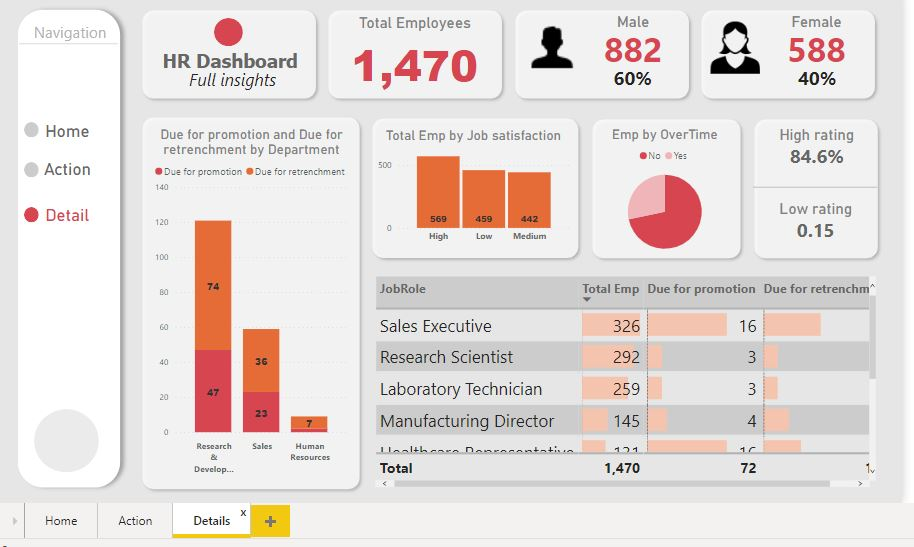

The page's visual inventory and layout, read from the dashboard file:
{"tool":"powerbi","page":{"name":"Details","canvas":[1280,720],"ordinal":2},"visuals":[{"type":"shape","box":[16.5,9.6,166.5,699.2],"z":0},{"type":"shape","box":[195.4,12.4,264.3,143.1],"z":1000},{"type":"shape","box":[459.7,12.4,264.3,143.1],"z":2000},{"type":"shape","box":[724,12.4,264.3,143.1],"z":3000},{"type":"shape","box":[988.2,12.4,264.3,143.1],"z":4000},{"type":"shape","box":[195.2,164.4,325.9,544.6],"z":5000},{"type":"shape","box":[521.1,165.9,309.7,215.8],"z":6000},{"type":"shape","box":[833.6,166.7,228.3,215],"z":7000},{"type":"shape","box":[1063.1,166.7,193.3,215],"z":8000},{"type":"textbox","box":[209.7,71.2,238.7,51.4],"z":9000},{"type":"textbox","box":[36.9,33,130.5,51.4],"z":10000},{"type":"textbox","box":[209.7,97.6,251.9,55.4],"z":11000},{"type":"shape","box":[305.9,33,40.9,39.6],"z":12000},{"type":"card","title":"Total Employees","fields":{"Values":["All Measures.Total Emp"]},"box":[468,27.5,246.4,112.9],"z":13000},{"type":"card","title":"Male","fields":{"Values":["All Measures.Male"]},"box":[814.8,26.2,170.7,75.7],"z":14000},{"type":"card","fields":{"Values":["All Measures.Male %"]},"box":[834.1,90.8,132.1,55.1],"z":15000},{"type":"card","title":"Female","fields":{"Values":["All Measures.Female"]},"box":[1068.7,26.2,183.1,75.7],"z":16000},{"type":"card","fields":{"Values":["All Measures.Female %"]},"box":[1083.9,90.8,152.8,53.7],"z":17000},{"type":"image","box":[736.3,26.2,95,90.8],"z":18000},{"type":"image","box":[1004.7,33,79.8,84],"z":19000},{"type":"columnChart","fields":{"Category":["HR Analytics Data.Department"],"Y":["All Measures.Due for promotion","All Measures.Due for retirment"]},"box":[216.3,185.9,284.8,501.1],"z":20000},{"type":"tableEx","fields":{"Values":["HR Analytics Data.JobRole","All Measures.Total Emp","All Measures.Due for promotion","All Measures.Due for retirment"]},"box":[529.5,393.8,718.8,308.1],"z":21000},{"type":"columnChart","fields":{"Category":["HR Analytics Data.Job satisfaction"],"Y":["All Measures.Total Emp"]},"box":[532.8,186.4,281.8,173.2],"z":22000},{"type":"pieChart","title":"Emp by OverTime","fields":{"Category":["HR Analytics Data.OverTime"],"Y":["All Measures.Total Emp"]},"box":[820.3,186,248.9,192.1],"z":23000},{"type":"card","title":"High rating","fields":{"Values":["All Measures.% High emp rating"]},"box":[1066.7,186,186,61.6],"z":24000},{"type":"card","title":"Low rating","fields":{"Values":["All Measures.% Low emp rating"]},"box":[1065.5,289.9,186,61.6],"z":25000},{"type":"shape","box":[1070.1,265.7,176.1,14.7],"z":26000},{"type":"shape","box":[36.9,300.7,21.1,22.4],"z":27000},{"type":"actionButton","title":"Detail","box":[27.7,298,139.8,39.6],"z":28000},{"type":"shape","box":[36.9,236,21.1,22.4],"z":29000},{"type":"actionButton","title":"Action","box":[27.7,232.1,139.8,58],"z":30000},{"type":"shape","box":[36.9,180.7,21.1,22.4],"z":31000},{"type":"actionButton","title":"Home","box":[27.7,178,139.8,54.1],"z":32000},{"type":"shape","box":[51.4,586.8,92.3,89.7],"z":33000},{"type":"shape","box":[30.2,61.6,140.1,15.7],"z":34000}]}

Visuals, with their boxes on the page's 1280x720 design canvas (x1, y1, x2, y2). These are canvas units, not pixel positions in the 914x547 screenshot, which may show the page scaled, cropped or inside an application window:
shape: {"x1": 16, "y1": 10, "x2": 183, "y2": 709}
shape: {"x1": 195, "y1": 12, "x2": 460, "y2": 156}
shape: {"x1": 460, "y1": 12, "x2": 724, "y2": 156}
shape: {"x1": 724, "y1": 12, "x2": 988, "y2": 156}
shape: {"x1": 988, "y1": 12, "x2": 1252, "y2": 156}
shape: {"x1": 195, "y1": 164, "x2": 521, "y2": 709}
shape: {"x1": 521, "y1": 166, "x2": 831, "y2": 382}
shape: {"x1": 834, "y1": 167, "x2": 1062, "y2": 382}
shape: {"x1": 1063, "y1": 167, "x2": 1256, "y2": 382}
textbox: {"x1": 210, "y1": 71, "x2": 448, "y2": 123}
textbox: {"x1": 37, "y1": 33, "x2": 167, "y2": 84}
textbox: {"x1": 210, "y1": 98, "x2": 462, "y2": 153}
shape: {"x1": 306, "y1": 33, "x2": 347, "y2": 73}
"Total Employees" card: {"x1": 468, "y1": 28, "x2": 714, "y2": 140}
"Male" card: {"x1": 815, "y1": 26, "x2": 986, "y2": 102}
card - All Measures.Male %: {"x1": 834, "y1": 91, "x2": 966, "y2": 146}
"Female" card: {"x1": 1069, "y1": 26, "x2": 1252, "y2": 102}
card - All Measures.Female %: {"x1": 1084, "y1": 91, "x2": 1237, "y2": 144}
image: {"x1": 736, "y1": 26, "x2": 831, "y2": 117}
image: {"x1": 1005, "y1": 33, "x2": 1084, "y2": 117}
columnChart - HR Analytics Data.Department x All Measures.Due for promotion: {"x1": 216, "y1": 186, "x2": 501, "y2": 687}
tableEx - HR Analytics Data.JobRole x All Measures.Total Emp: {"x1": 530, "y1": 394, "x2": 1248, "y2": 702}
columnChart - HR Analytics Data.Job satisfaction x All Measures.Total Emp: {"x1": 533, "y1": 186, "x2": 815, "y2": 360}
"Emp by OverTime" pieChart: {"x1": 820, "y1": 186, "x2": 1069, "y2": 378}
"High rating" card: {"x1": 1067, "y1": 186, "x2": 1253, "y2": 248}
"Low rating" card: {"x1": 1066, "y1": 290, "x2": 1252, "y2": 352}
shape: {"x1": 1070, "y1": 266, "x2": 1246, "y2": 280}
shape: {"x1": 37, "y1": 301, "x2": 58, "y2": 323}
"Detail" actionButton: {"x1": 28, "y1": 298, "x2": 168, "y2": 338}
shape: {"x1": 37, "y1": 236, "x2": 58, "y2": 258}
"Action" actionButton: {"x1": 28, "y1": 232, "x2": 168, "y2": 290}
shape: {"x1": 37, "y1": 181, "x2": 58, "y2": 203}
"Home" actionButton: {"x1": 28, "y1": 178, "x2": 168, "y2": 232}
shape: {"x1": 51, "y1": 587, "x2": 144, "y2": 676}
shape: {"x1": 30, "y1": 62, "x2": 170, "y2": 77}
